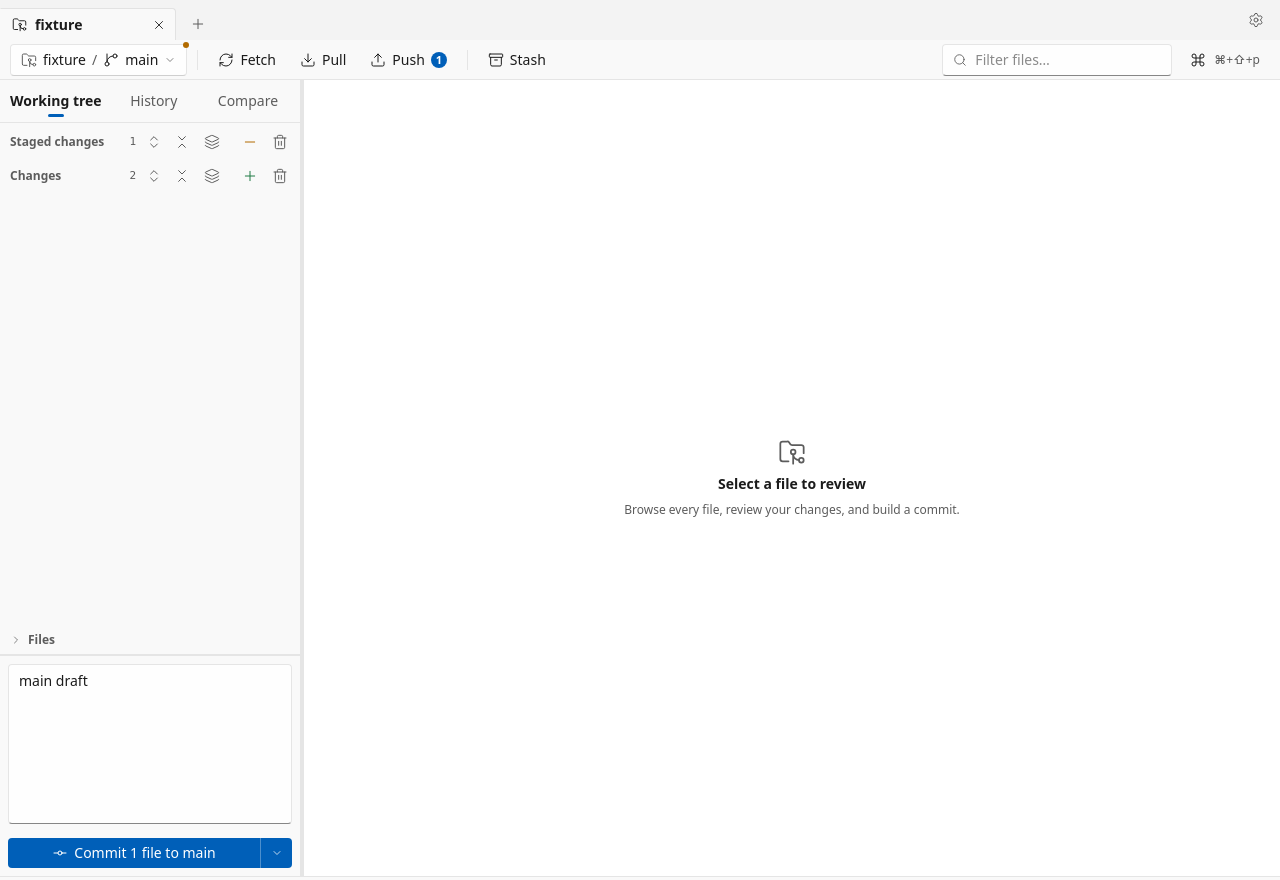
Scenario: worktrees › switches in place and keeps each worktree its own draft
Press ArrowRight in the slider named "Resize sidebar", box [300,80,304,876]
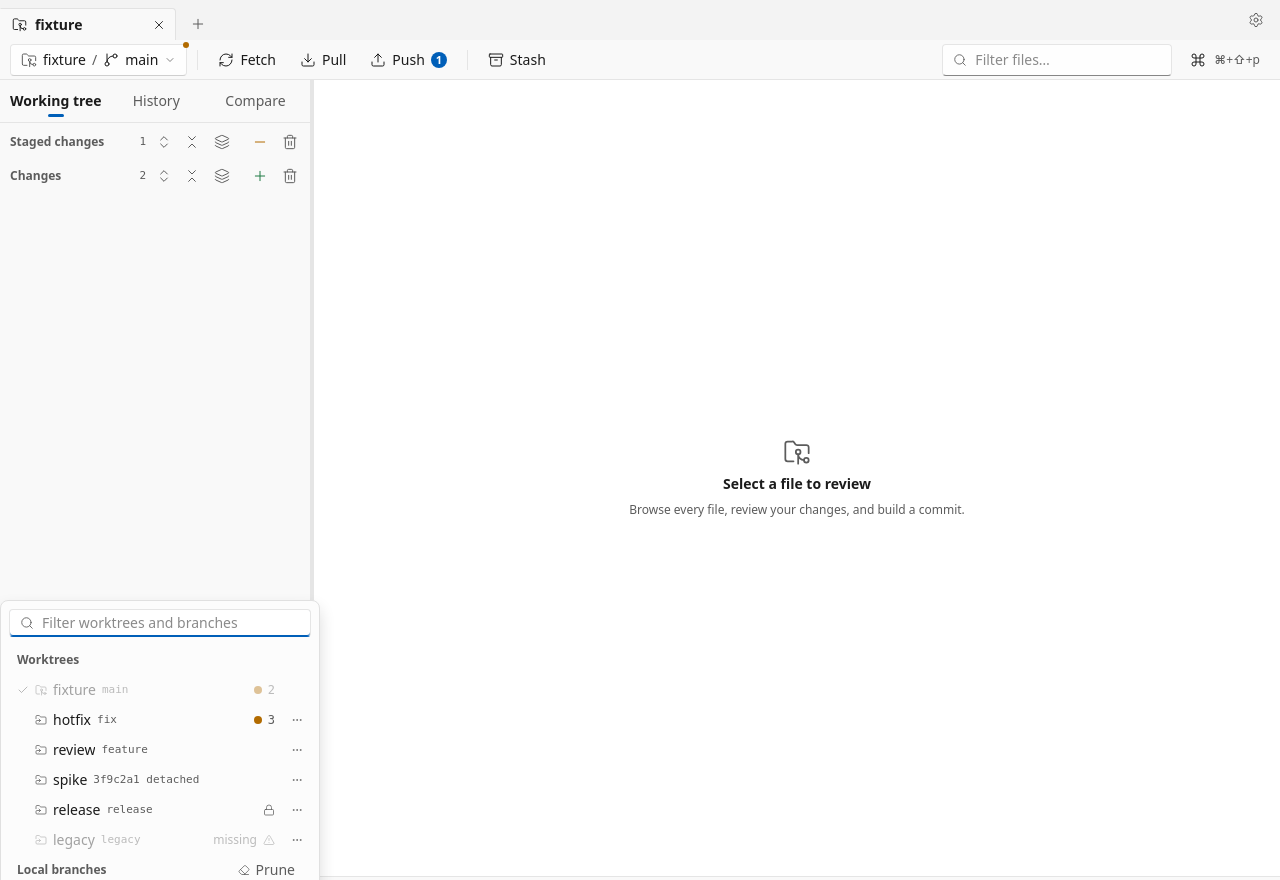
Click the button "hotfix fix 3". click: (72, 720)
box: [9,706,283,734]
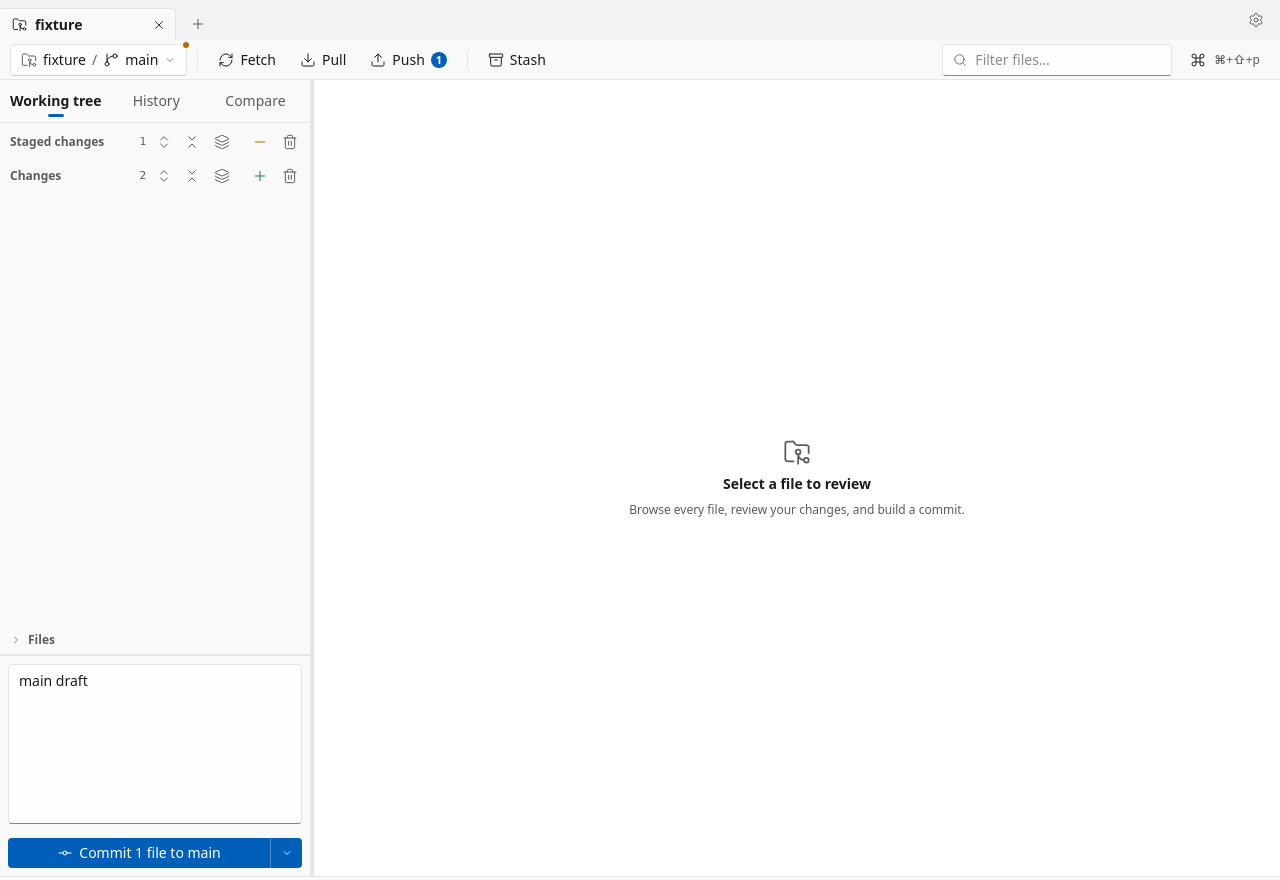
Expected: the text box named "Commit message" holds "main draft", [8,664,302,824]
Now the heading labelled "branches" is gone
